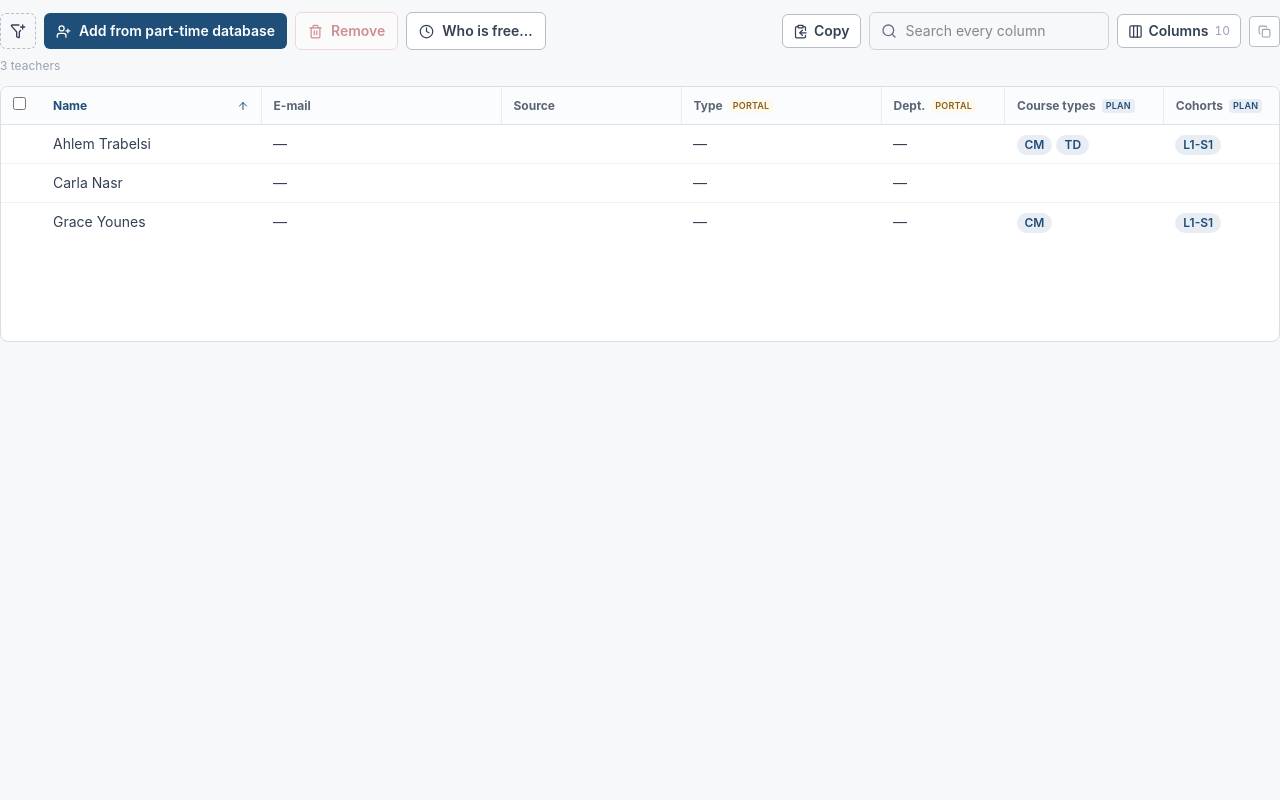
Test: who is free in a window of time › narrows the list to who is free, and says how many of how many
Expected: the text "Grace Younes" is shown, 53,213 -> 146,230
Click the button "Who is free…". click: (476, 31)
box: 406,12 -> 546,50
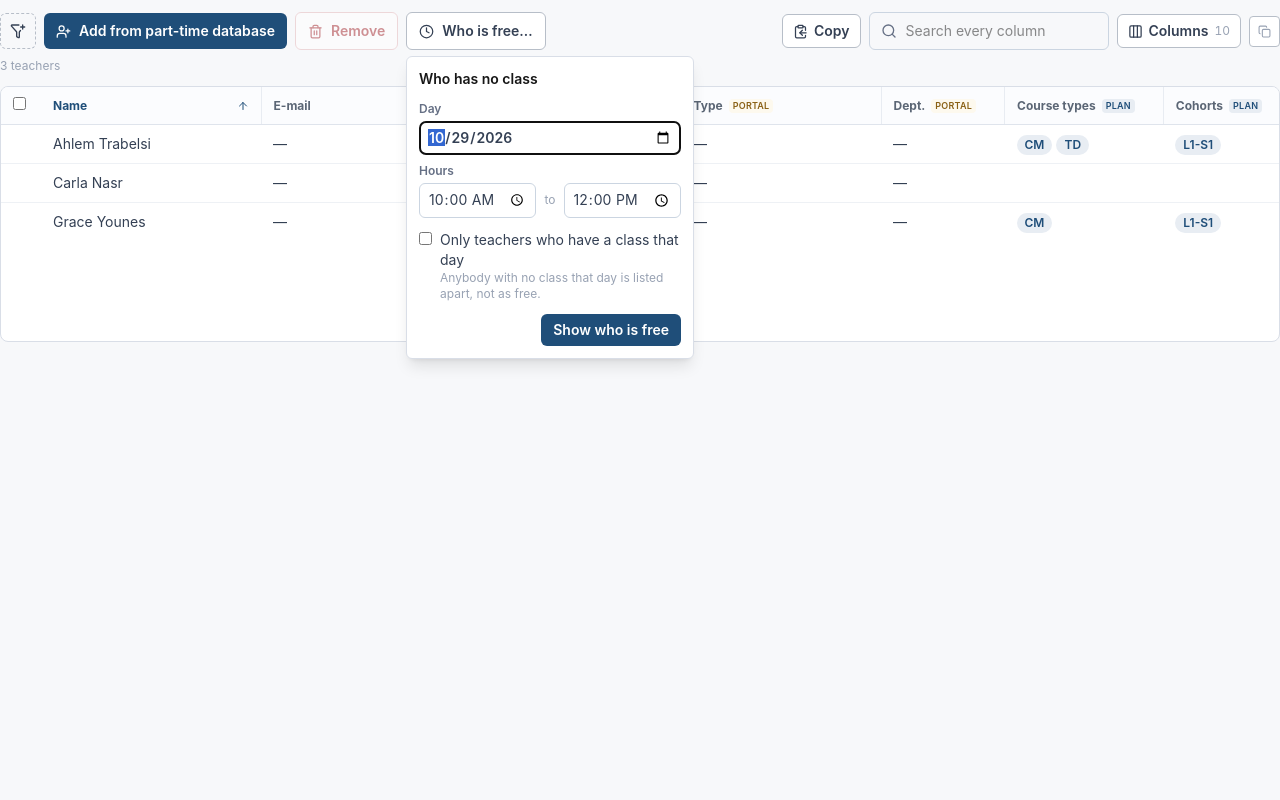
Type "2026-10-01" into the date field labelled "Day". click: (550, 138)
box: 419,121 -> 681,155
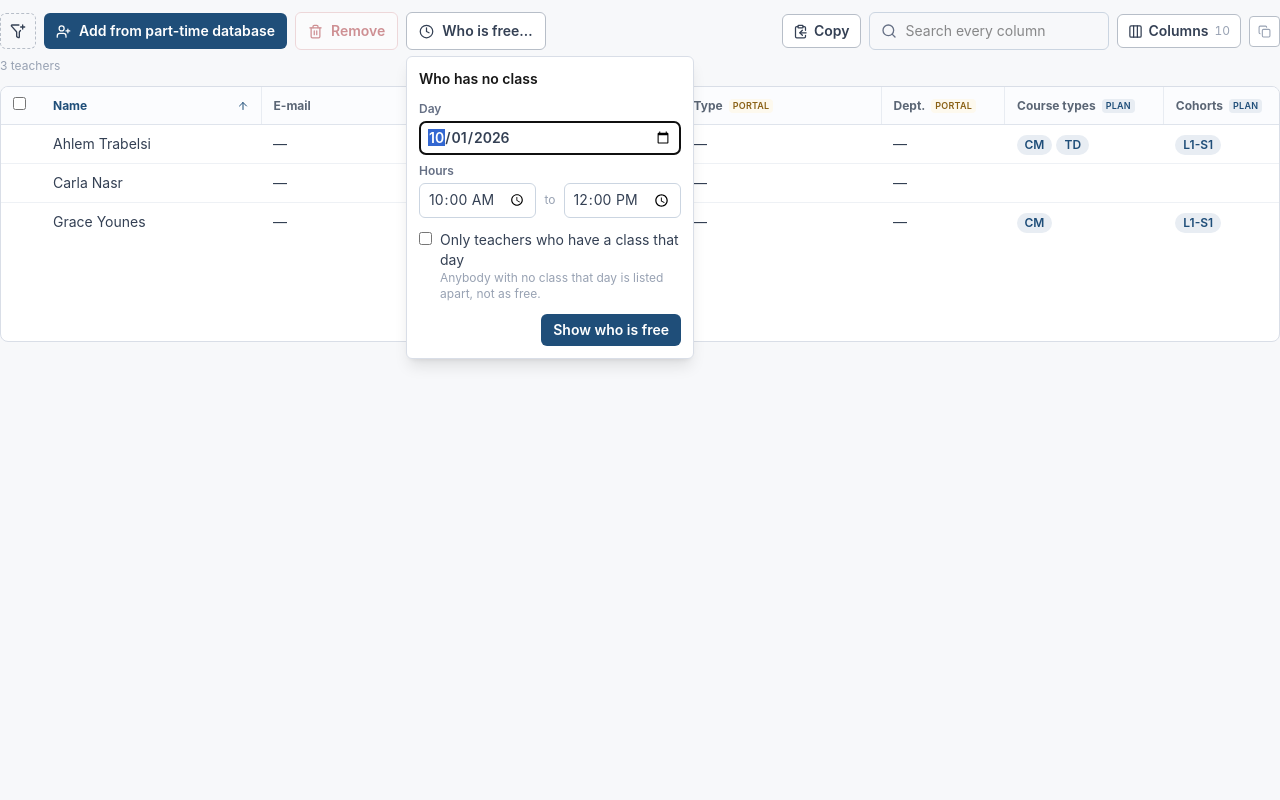
Replace the text in the time field named "Starts at" with "14:00". click: (478, 200)
box: 419,183 -> 536,218
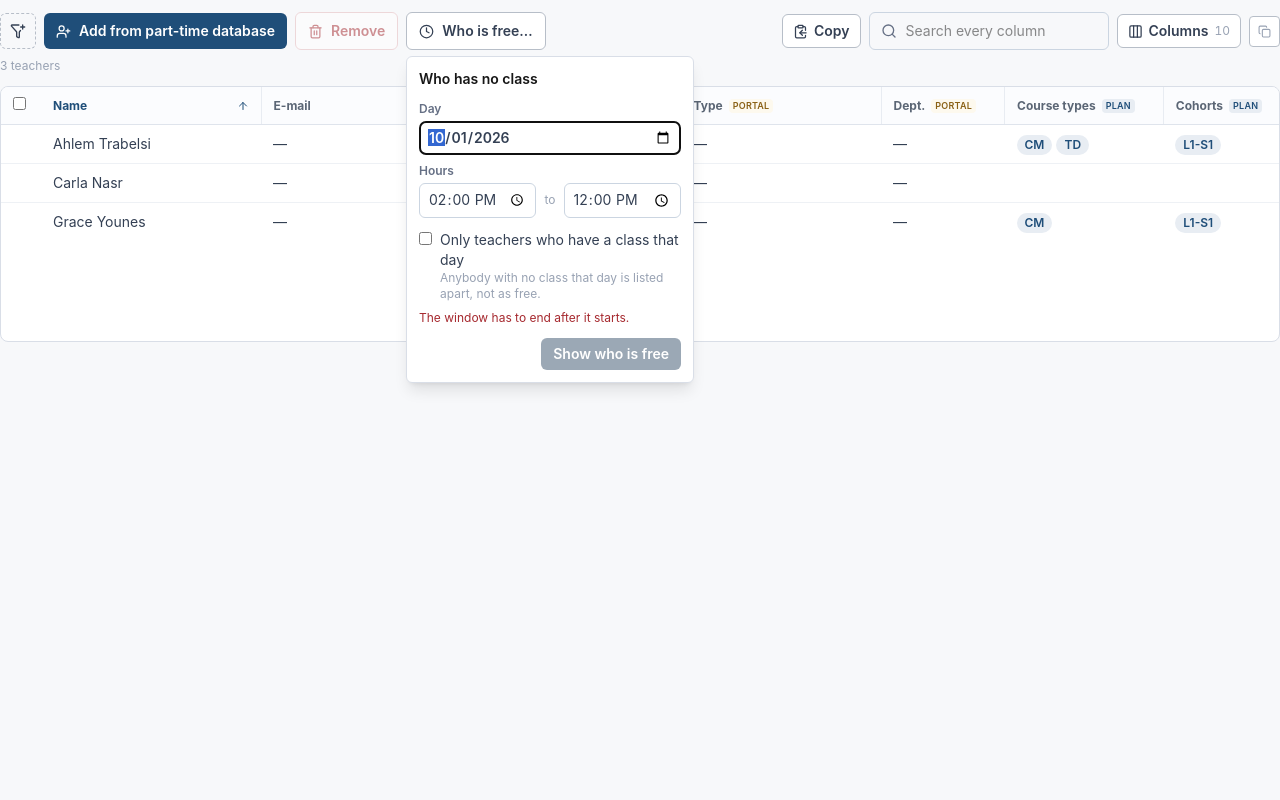
Replace the text in the time field named "Ends at" with "16:00". click: (622, 200)
box: 564,183 -> 681,218
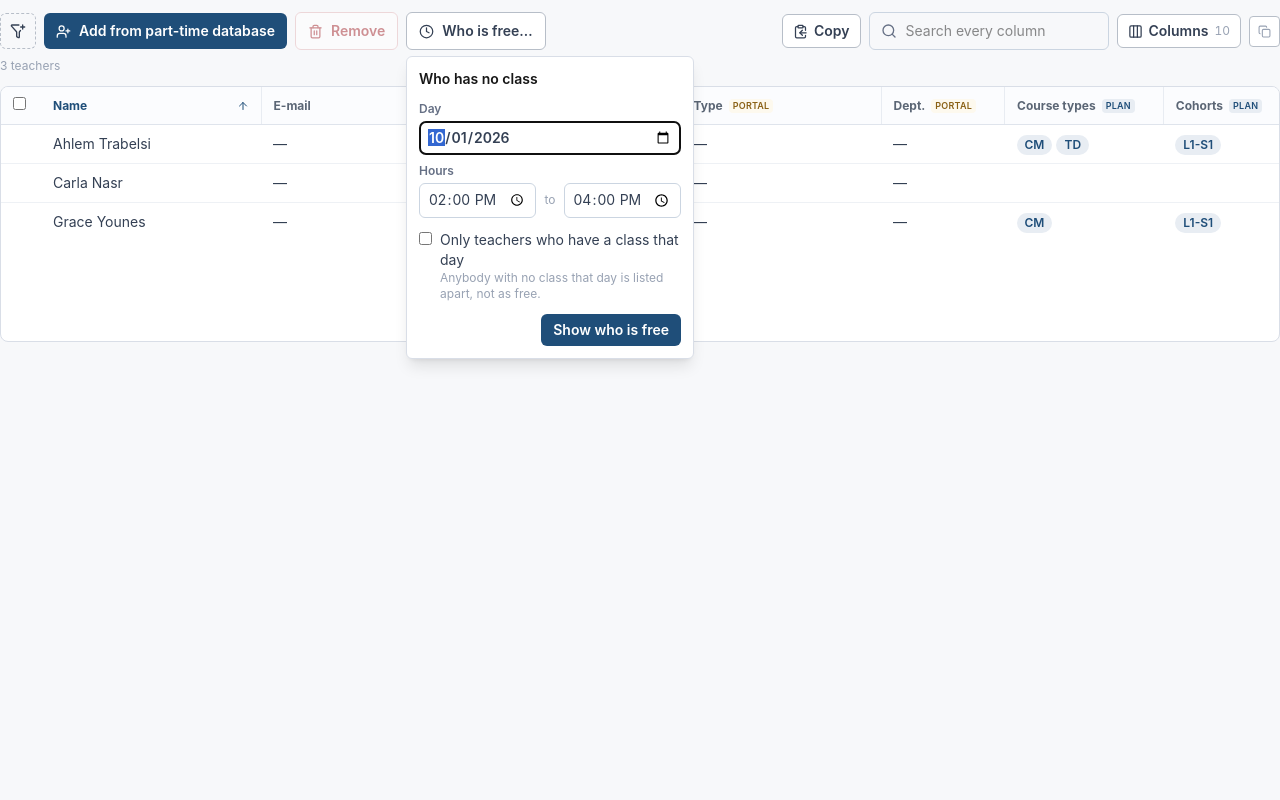
Click the button "Show who is free". click: (611, 330)
box: 541,314 -> 681,346
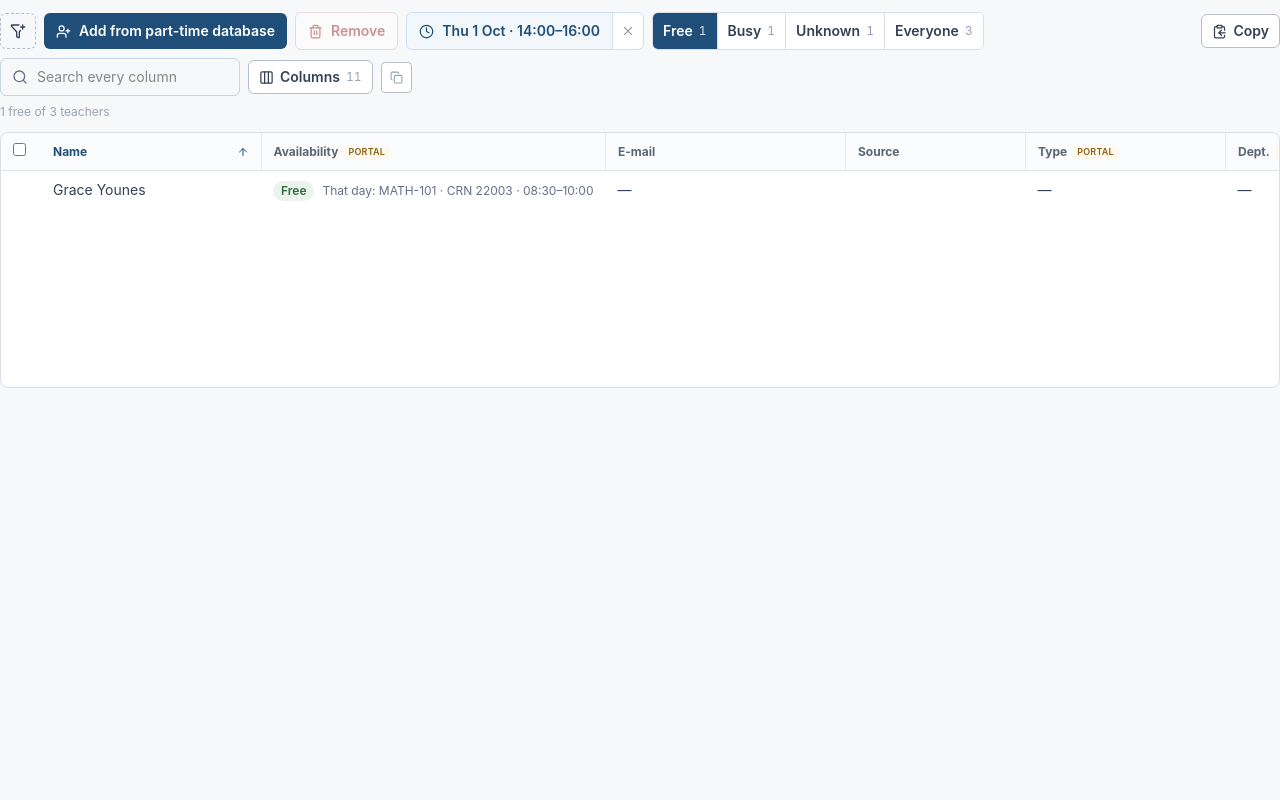
Result: the element named "Show" is shown at 652,12 -> 984,50
Result: the text "1 free of 3 teachers" is shown at 0,104 -> 110,119
Result: the button "Busy 1" is shown at 717,13 -> 785,49
